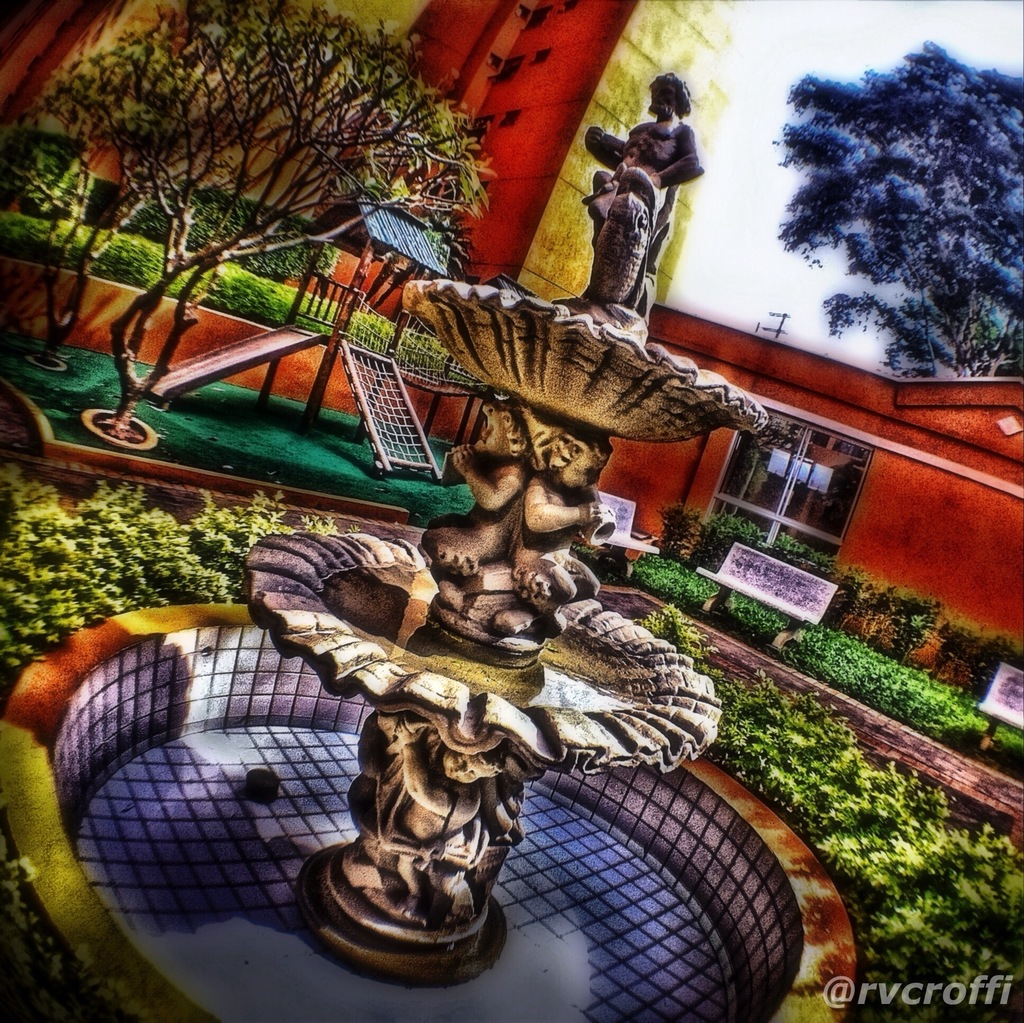Tree: (770, 27, 990, 382)
